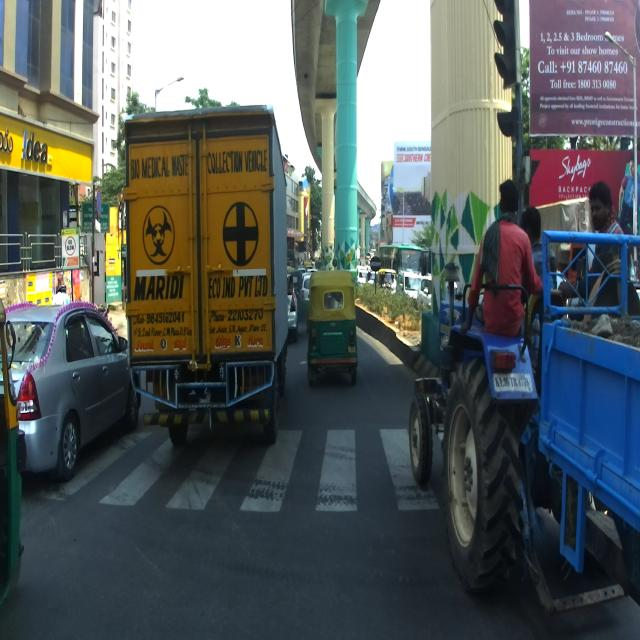auto ahead at: (307, 267, 357, 390)
car ahead at: (18, 301, 126, 478)
truck ahead at: (409, 180, 640, 616), (123, 121, 280, 432)
